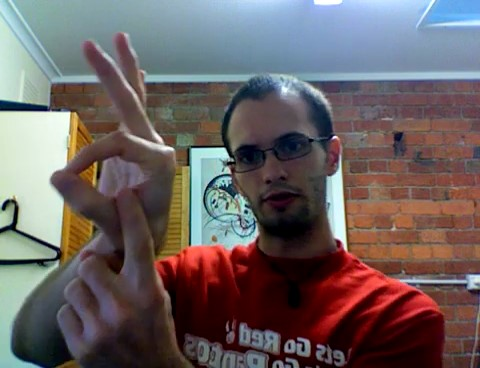Q: (36, 28, 183, 362)
